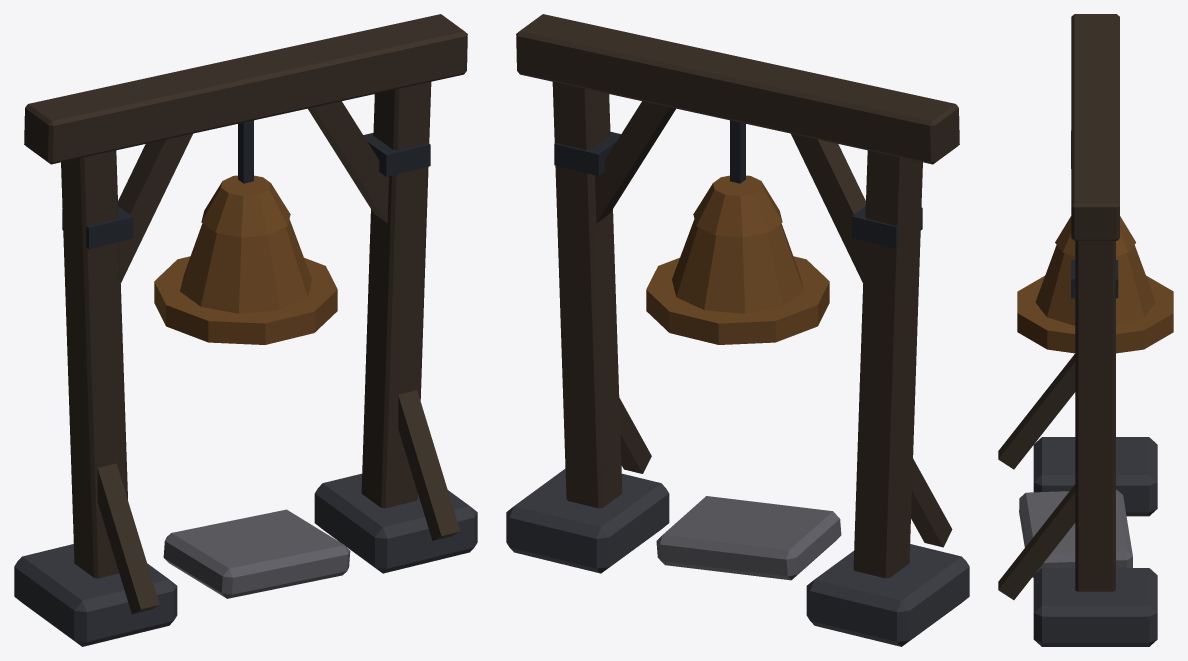
Rendered from Hanging_Bell_Gibbet.glb.
The picture shows the model from 3 angles, left to right: view 1: azimuth 30°, elevation 25°; view 2: azimuth 150°, elevation 25°; view 3: azimuth 270°, elevation 25°; orthographic projection. The views are drawn at different scales.
Visible parts, largest first — view 1: Hanging_Bell_Gibbet; view 2: Hanging_Bell_Gibbet; view 3: Hanging_Bell_Gibbet.
Part boxes in pixels (x1=…): Hanging_Bell_Gibbet: x1=14, y1=14, x2=477, y2=646; Hanging_Bell_Gibbet: x1=506, y1=14, x2=969, y2=646; Hanging_Bell_Gibbet: x1=998, y1=14, x2=1173, y2=646.
Bounding box in the file's own units: 2.65 × 3.12 × 1.08.
